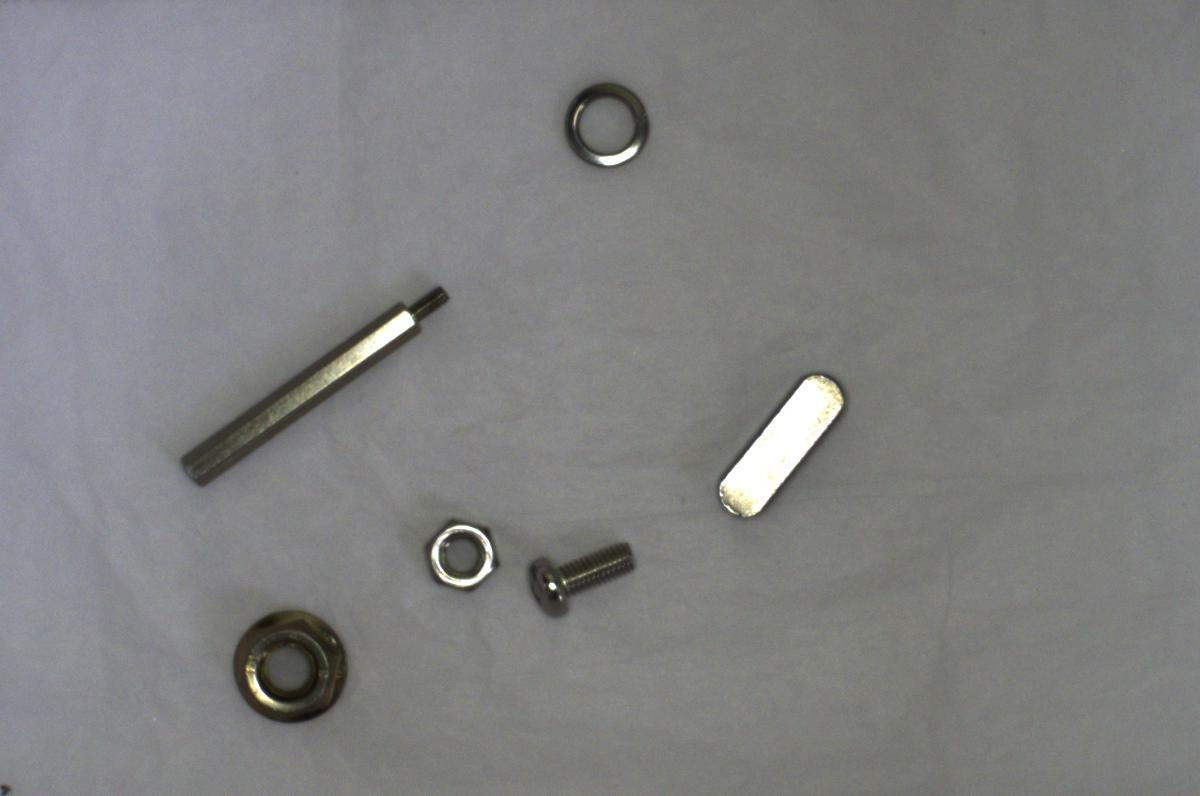Flange nut: (215, 600, 365, 728)
Hexagon nut: (415, 513, 505, 596)
Hexagonal steel column: (164, 279, 452, 494)
Keybar: (708, 358, 858, 532)
Round head screw: (522, 530, 637, 622)
Spring washer: (557, 73, 659, 175)
